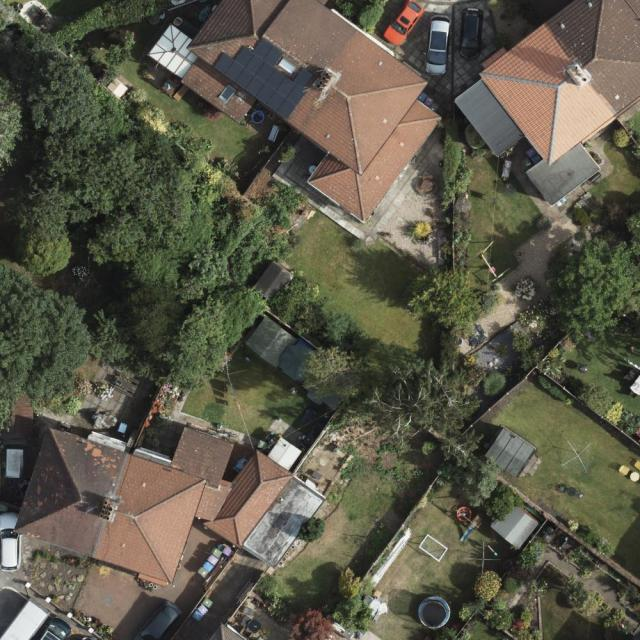roof: (148, 0, 442, 224), (14, 426, 328, 584), (452, 0, 640, 207)
skylight: (218, 84, 237, 104), (280, 59, 300, 76)
solar: (211, 36, 312, 120)
